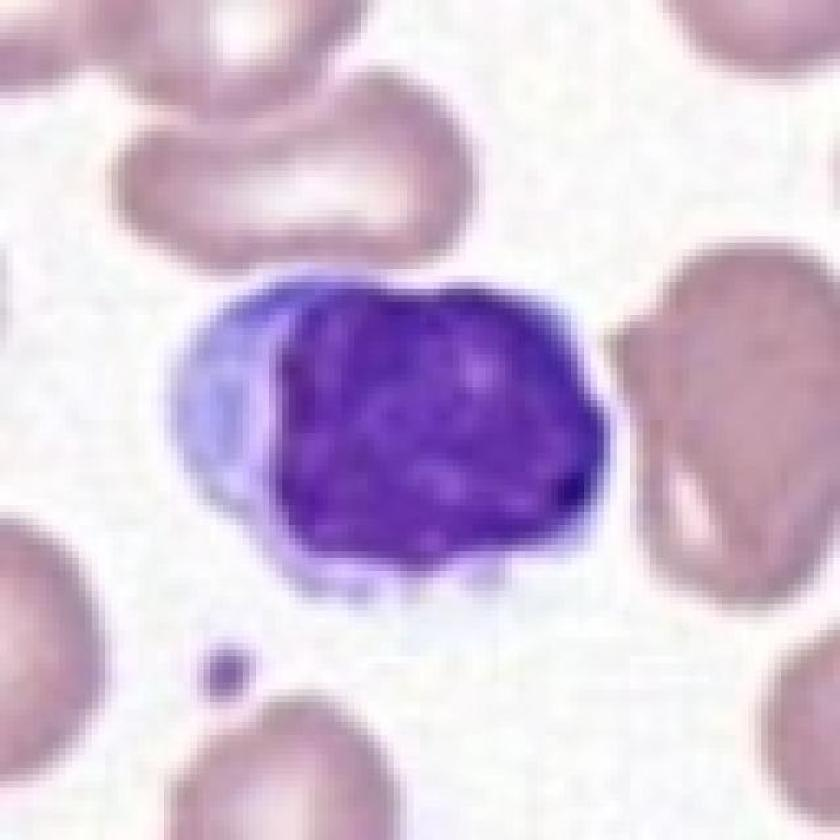lymphocyte: (159, 269, 612, 618)
